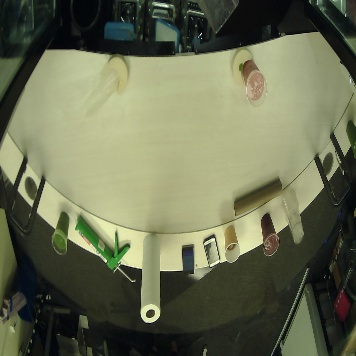coffee_cup: (224, 225, 240, 263)
empty_cup: (282, 190, 305, 245)
full_cup: (242, 59, 268, 108), (259, 211, 280, 256), (52, 211, 69, 256)
puck: (107, 53, 129, 95), (231, 47, 254, 86)
